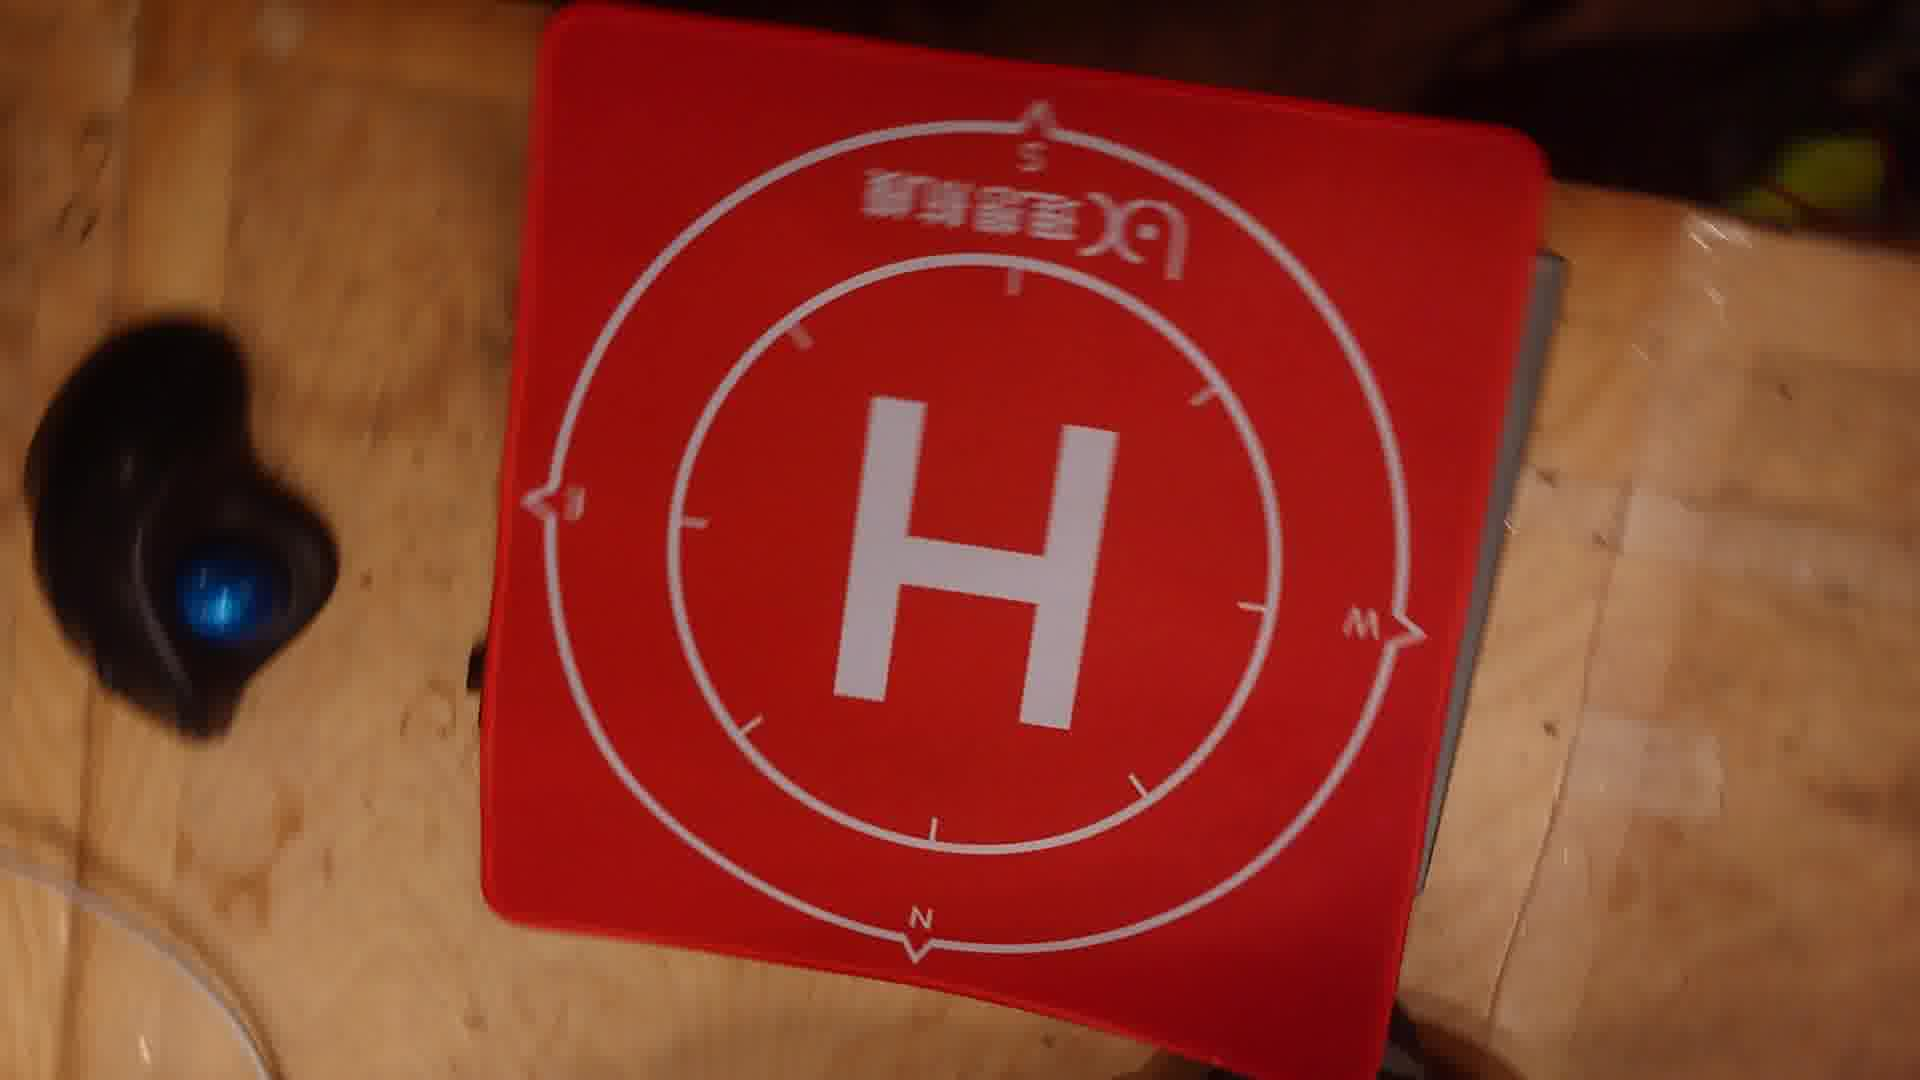H: (829, 394, 1125, 729)
